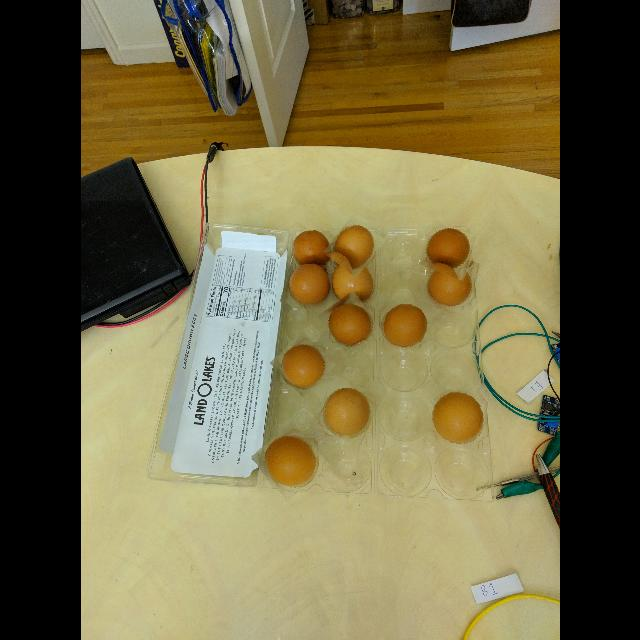Egg: (256, 426, 324, 496), (316, 380, 378, 444), (428, 389, 488, 451), (324, 294, 380, 356), (275, 335, 331, 393), (424, 254, 478, 312), (421, 223, 477, 277), (328, 219, 380, 275), (282, 258, 334, 312), (381, 301, 431, 353), (328, 256, 378, 306), (293, 230, 333, 270)
